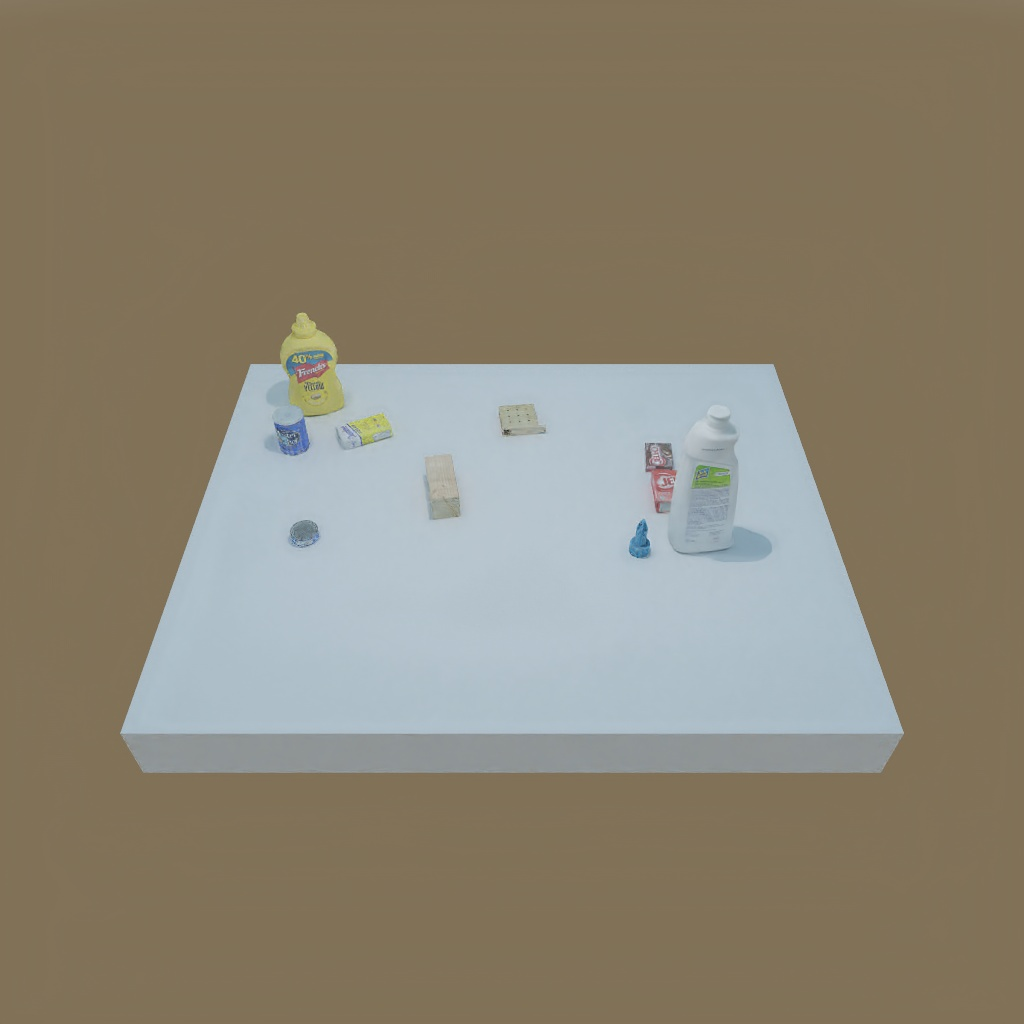gelatin_box: (650, 469, 691, 511)
master_chef_can: (266, 403, 316, 453)
mustard_bottle: (276, 313, 347, 419)
nine_hole_peg_test: (489, 400, 553, 445)
pudding_box: (641, 439, 676, 472)
wood_block: (421, 452, 462, 522)
